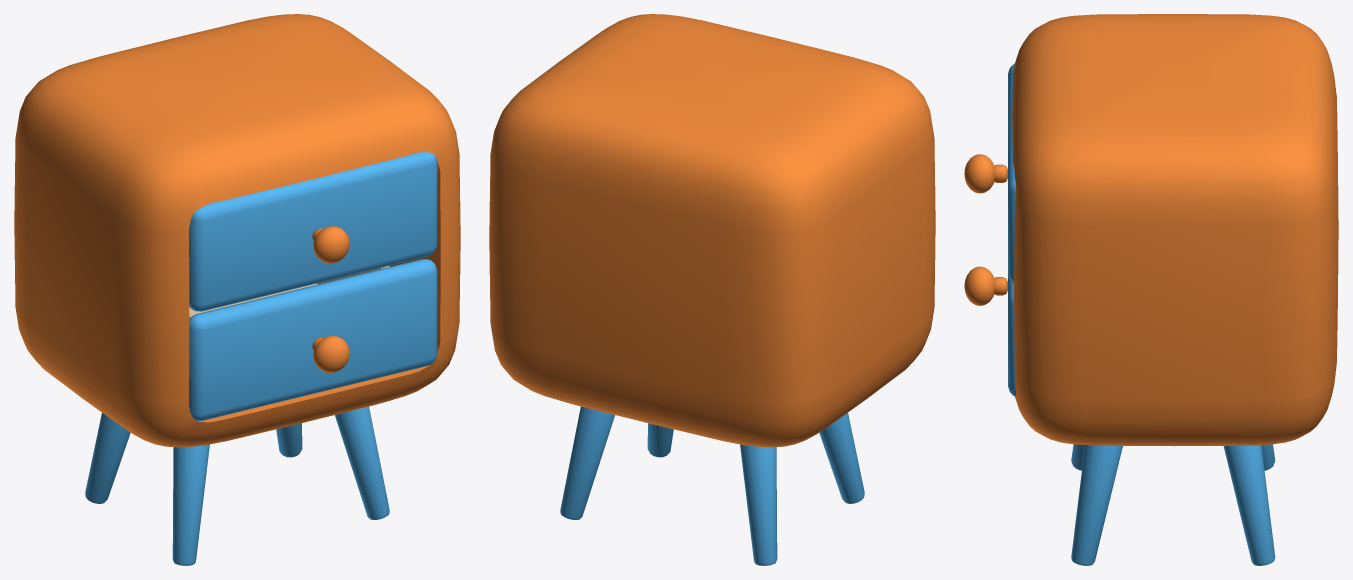
The model's file is criado_retro_laranja.glb.
The picture shows the model from 3 angles, left to right: view 1: azimuth 30°, elevation 25°; view 2: azimuth 150°, elevation 25°; view 3: azimuth 270°, elevation 25°; orthographic projection. The views are drawn at different scales.
Visible parts, largest first — view 1: criado_retro_laranja, gaveta_1, gaveta_2; view 2: criado_retro_laranja; view 3: criado_retro_laranja, gaveta_2, gaveta_1.
Part boxes in pixels (x1=…): criado_retro_laranja: x1=14, y1=14, x2=460, y2=565; gaveta_1: x1=189, y1=259, x2=437, y2=420; gaveta_2: x1=189, y1=152, x2=437, y2=311; criado_retro_laranja: x1=489, y1=14, x2=935, y2=565; criado_retro_laranja: x1=1012, y1=14, x2=1338, y2=565; gaveta_2: x1=964, y1=63, x2=1015, y2=283; gaveta_1: x1=964, y1=266, x2=1015, y2=396.
Bounding box in the file's own units: 0.48 × 0.5922 × 0.4526.
1 material, 1 textured.
